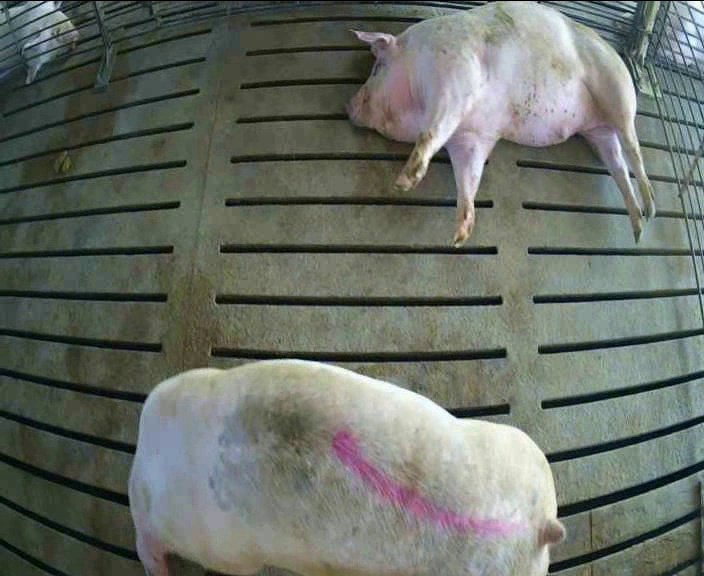pig: (129, 360, 564, 574), (347, 2, 654, 245)
